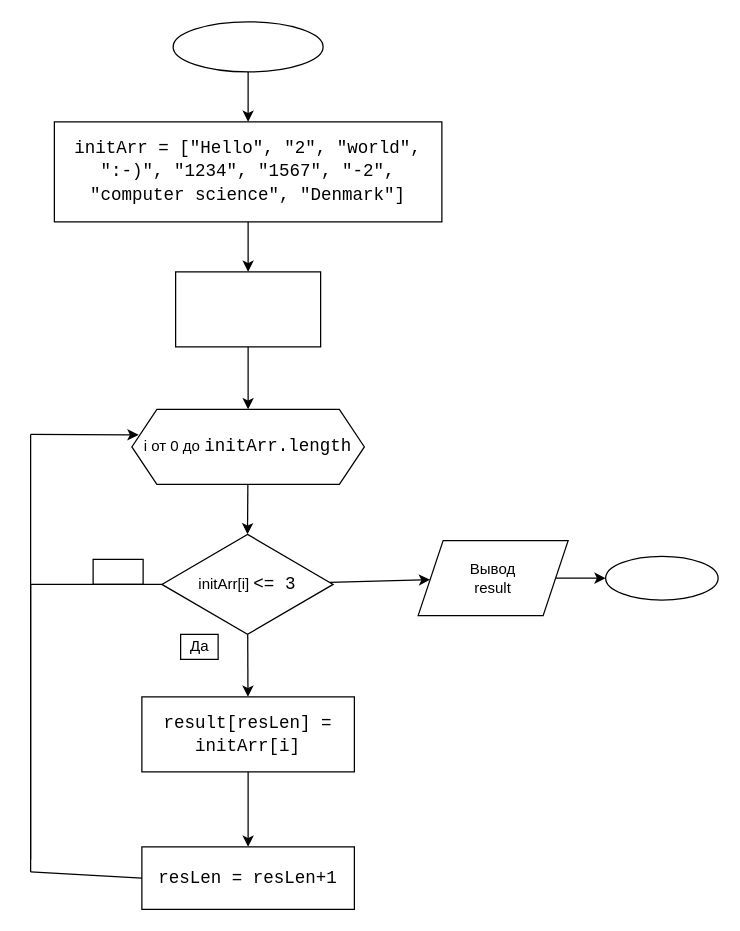
Some shapes in this 740 by 931 pixel diagram are drawn without their labels. Each missing label, with the centre of its shape:
"result resLen = 0" belongs at (247,309).
"Конец" belongs at (661,577).
"Начало" belongs at (247,46).
"Нет" belongs at (117,571).
